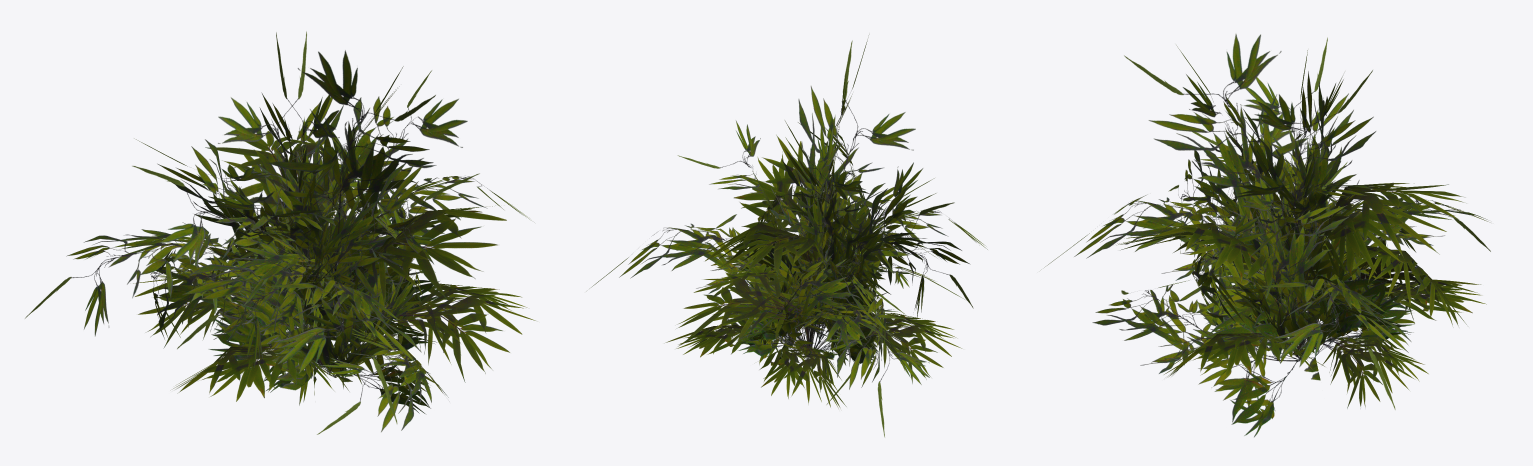
Rendered from bush4.glb.
3 renders of one model, left to right at view 1: azimuth 30°, elevation 25°; view 2: azimuth 150°, elevation 25°; view 3: azimuth 270°, elevation 25°, orthographic. The views are drawn at different scales.
Visible parts, largest first — view 1: bush_04; view 2: bush_04; view 3: bush_04.
Boxes of the visible parts, <box> form: bush_04: <box>25,31,535,434</box>; bush_04: <box>591,39,987,436</box>; bush_04: <box>1044,34,1490,437</box>.
Size of the model in its own units: 2 by 1.8 by 2.
Materials: 1 (1 with a texture image).
